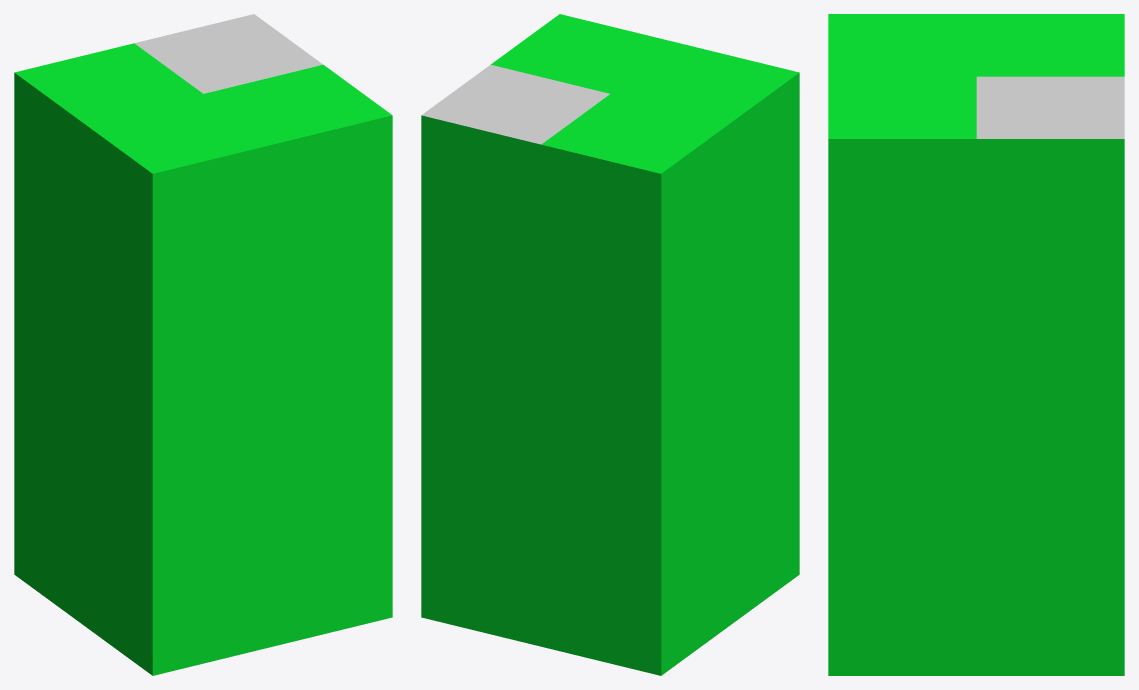
Rendered from gedung2m.dae.
3 renders of one model, left to right at view 1: azimuth 30°, elevation 25°; view 2: azimuth 150°, elevation 25°; view 3: azimuth 270°, elevation 25°, orthographic. The views are drawn at different scales.
Visible parts, largest first — view 1: Cube; view 2: Cube; view 3: Cube.
Part boxes in pixels (x1,y1,x2,y2): Cube: (14, 14, 392, 675); Cube: (421, 14, 799, 675); Cube: (828, 14, 1124, 675).
Bounding box in the file's own units: 1 × 1 × 2.
